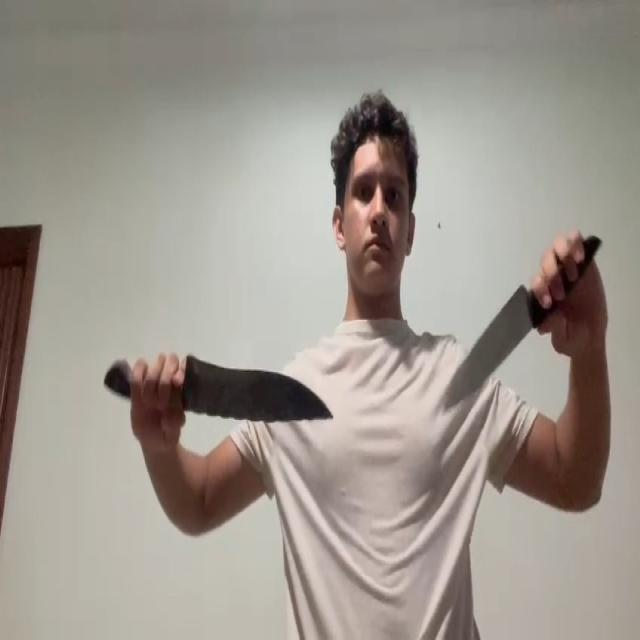knife: (442, 283, 532, 406), (181, 355, 334, 420)
